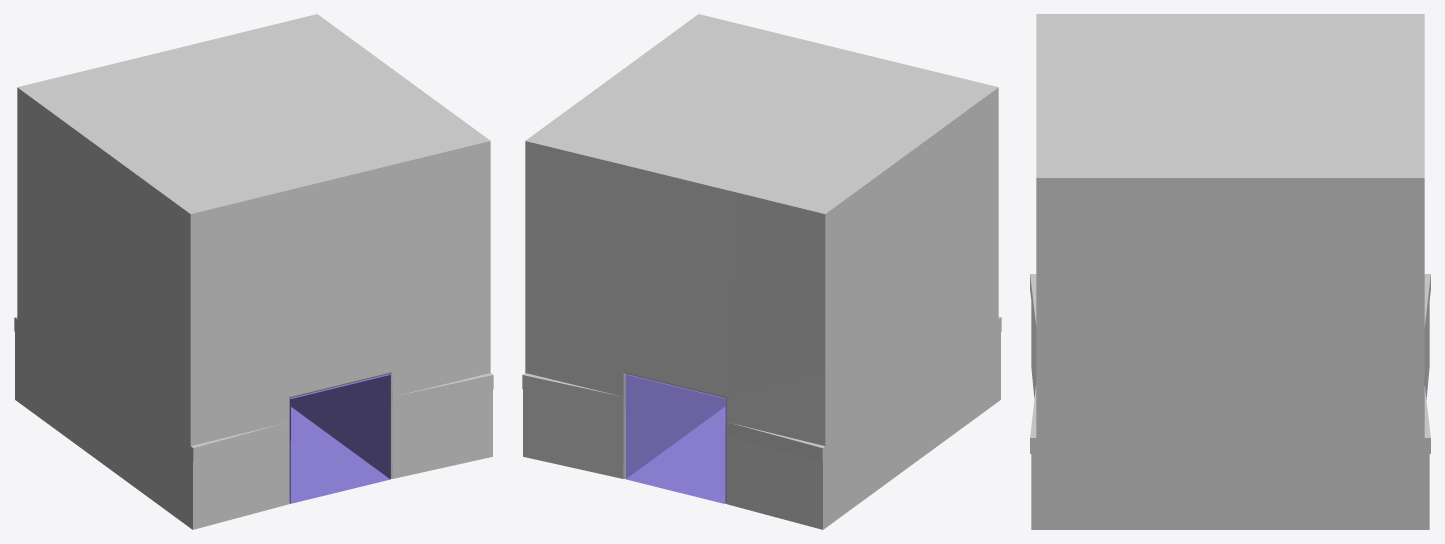
Rendered from ventilation_shaft.fbx.
3 renders of one model, left to right at view 1: azimuth 30°, elevation 25°; view 2: azimuth 150°, elevation 25°; view 3: azimuth 270°, elevation 25°, orthographic. The views are drawn at different scales.
Parts seen in each view (by area): view 1: Cube.002, Cube.004; view 2: Cube.002, Cube.004; view 3: Cube.002.
Part boxes in pixels (x1=…): Cube.002: x1=14, y1=14, x2=493, y2=529; Cube.004: x1=289, y1=374, x2=390, y2=503; Cube.002: x1=522, y1=14, x2=1001, y2=529; Cube.004: x1=625, y1=374, x2=726, y2=503; Cube.002: x1=1030, y1=14, x2=1430, y2=529.
Bounding box in the file's own units: 1200 × 1200 × 1239.
